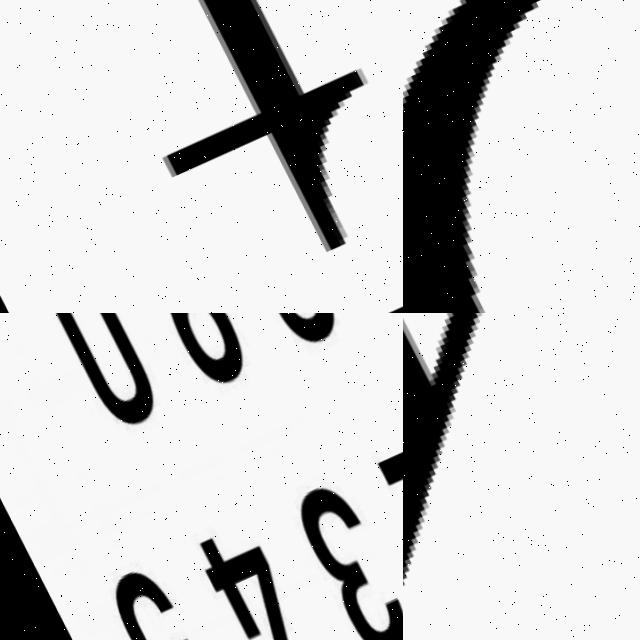0: (9, 313, 178, 454)
2: (353, 416, 403, 639)
3: (266, 463, 403, 640)
4: (175, 505, 336, 640)
5: (81, 553, 234, 640)
8: (200, 313, 361, 377)
9: (107, 313, 266, 415)
O: (403, 0, 640, 313)
T: (0, 0, 403, 313)
